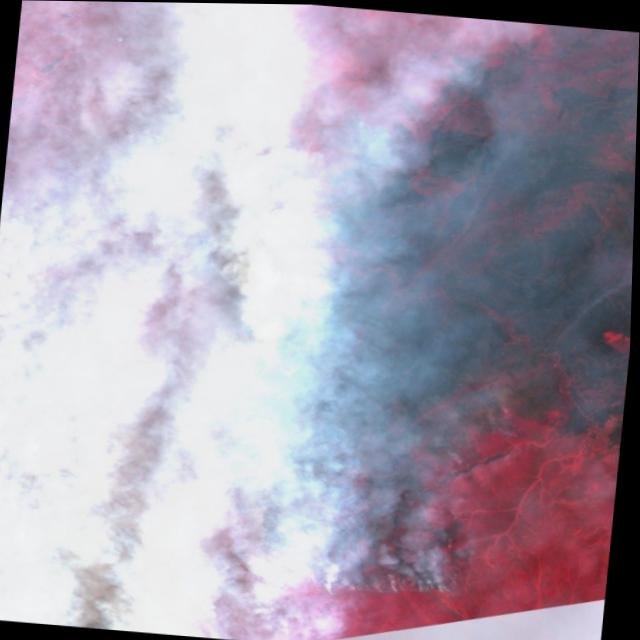fire: (189, 264, 500, 603)
